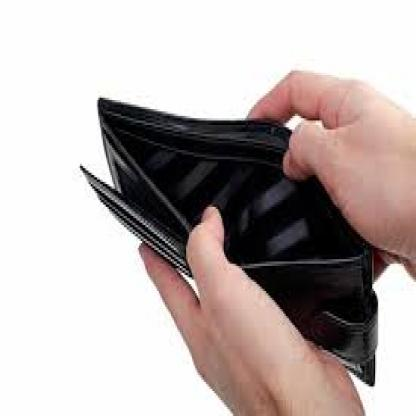monedero: (77, 93, 378, 384)
